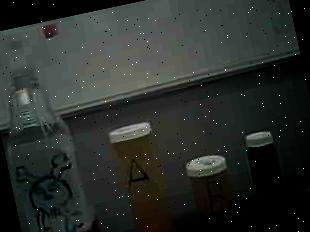Bottle A: (97, 114, 183, 232)
Bottle B: (178, 149, 244, 227)
Bottle C: (242, 126, 290, 206)
hazard: (0, 19, 102, 232)
